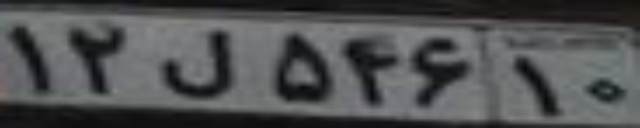0: (582, 75, 629, 104)
1: (511, 54, 558, 117), (8, 24, 52, 90)
2: (68, 25, 128, 95)
4: (343, 37, 397, 105)
5: (264, 31, 334, 102)
6: (405, 36, 475, 103)
lam: (156, 28, 233, 98)
